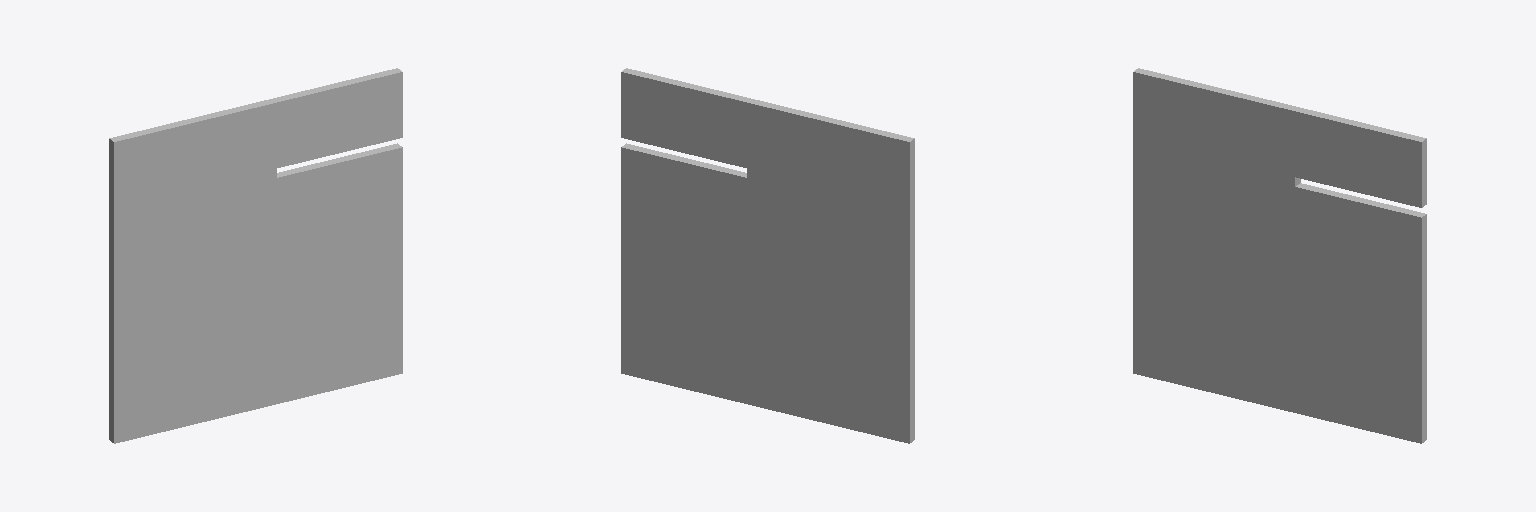
File: MonasteryBack2-top 1.obj
The picture shows the model from 3 angles: view 1: azimuth 30°, elevation 25°; view 2: azimuth 150°, elevation 25°; view 3: azimuth 330°, elevation 25°; orthographic projection.
Parts seen in each view (by area): view 1: MonasteryBack2-top 1; view 2: MonasteryBack2-top 1; view 3: MonasteryBack2-top 1.
Part boxes in pixels (left/top/right/bottom): MonasteryBack2-top 1: left=109, top=68, right=402, bottom=443; MonasteryBack2-top 1: left=621, top=68, right=914, bottom=443; MonasteryBack2-top 1: left=1133, top=68, right=1426, bottom=443.
Bounding box in the file's own units: 1.6 × 1.6 × 0.05.